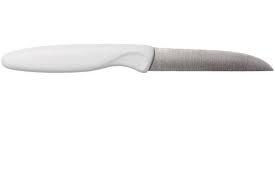Knife: (1, 42, 274, 73)
